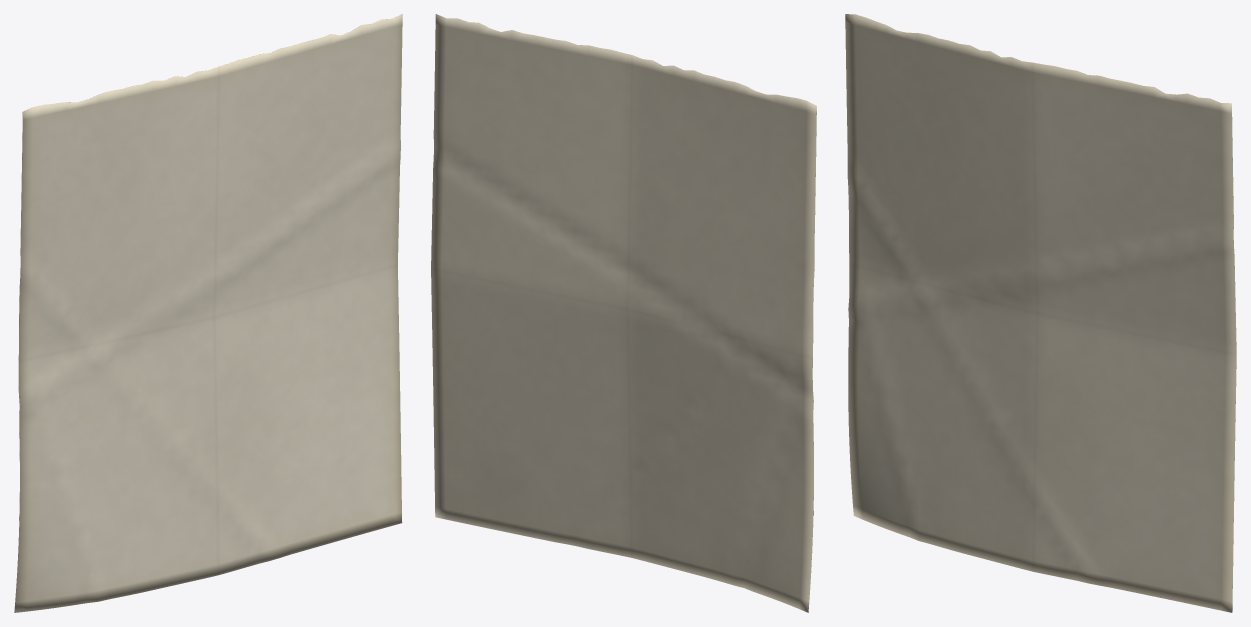
Rendered from PH_Hand__Memo.fbx.
3 renders of one model, left to right at view 1: azimuth 30°, elevation 25°; view 2: azimuth 150°, elevation 25°; view 3: azimuth 330°, elevation 25°, orthographic.
Visible parts, largest first — view 1: PH_Hand__Memo; view 2: PH_Hand__Memo; view 3: PH_Hand__Memo.
Boxes of the visible parts, x1=… form: PH_Hand__Memo: x1=14, y1=14, x2=402, y2=612; PH_Hand__Memo: x1=431, y1=14, x2=816, y2=612; PH_Hand__Memo: x1=845, y1=14, x2=1236, y2=612.
Size of the model in its own units: 0.165 by 0.21 by 0.00978.
